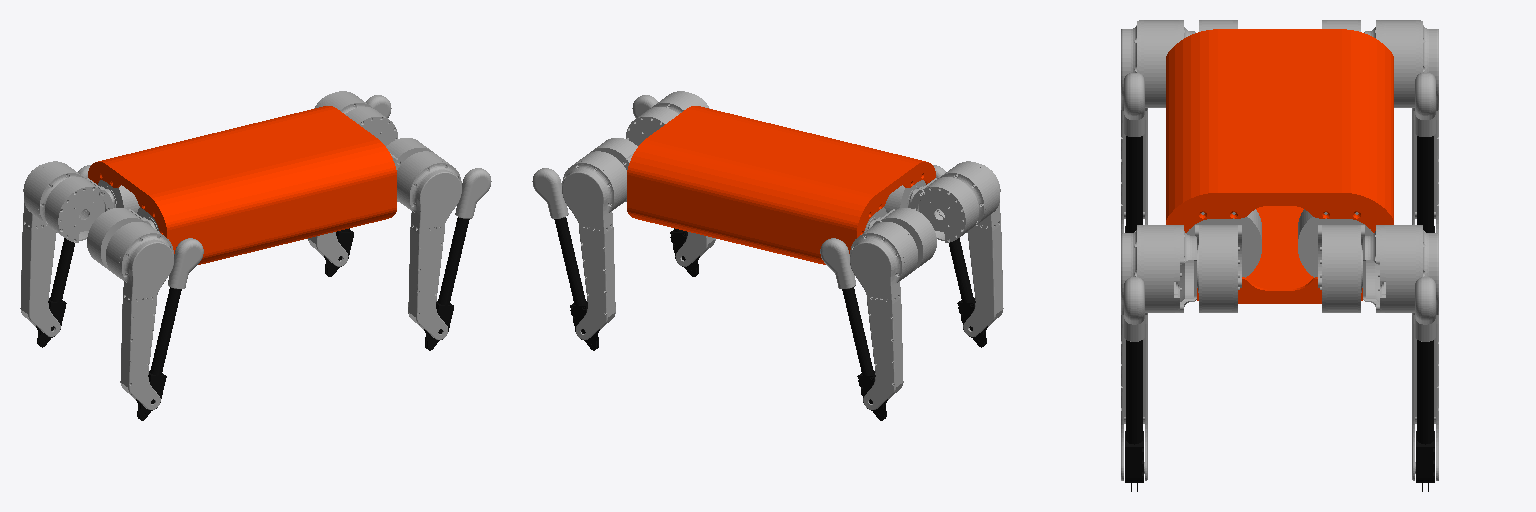
--- Facts derived from the render (not from the file) ---
The picture shows the robot from 3 angles, left to right: view 1: azimuth 30°, elevation 25°; view 2: azimuth 150°, elevation 25°; view 3: azimuth 270°, elevation 25°; orthographic projection.
Model Nomad with 25 links and 24 joints (12 continuous, 12 fixed), rooted at base_link, posed all joints at 0.
Links seen in each view (by area): view 1: base_link, b_upper_leg_FR, b_upper_leg_RR, b_upper_leg_RL, b_hfe_motor_RL, b_lower_leg_FR, b_lower_leg_RR, b_kfe_motor_RL, b_hfe_motor_RR, b_lower_leg_RL, b_foot_RR, b_kfe_motor_RR (+7 smaller); view 2: base_link, b_upper_leg_FL, b_upper_leg_RL, b_upper_leg_RR, b_hfe_motor_RR, b_lower_leg_FL, b_lower_leg_RL, b_kfe_motor_RR, b_hfe_motor_RL, b_lower_leg_RR, b_foot_RL, b_kfe_motor_RL (+7 smaller); view 3: base_link, b_kfe_motor_FL, b_kfe_motor_FR, b_hfe_motor_FL, b_hfe_motor_FR, b_kfe_motor_RL, b_kfe_motor_RR, b_lower_leg_FL, b_lower_leg_FR, b_upper_leg_FL, b_upper_leg_FR, b_upper_leg_RL (+9 smaller).
Link boxes in pixels (box(x1,y1,x2,y2)): base_link: box(88, 106, 396, 264); b_upper_leg_FR: box(408, 162, 461, 339); b_upper_leg_RR: box(120, 232, 173, 409); b_upper_leg_RL: box(20, 161, 66, 336); b_hfe_motor_RL: box(45, 177, 114, 242); b_lower_leg_FR: box(424, 217, 469, 350); b_lower_leg_RR: box(136, 287, 181, 420); b_kfe_motor_RL: box(25, 162, 85, 226); b_hfe_motor_RR: box(87, 208, 155, 270); b_lower_leg_RL: box(36, 238, 74, 347); b_foot_RR: box(168, 238, 203, 288); b_kfe_motor_RR: box(106, 222, 160, 280); base_link: box(627, 106, 935, 264); b_upper_leg_FL: box(562, 162, 615, 339); b_upper_leg_RL: box(850, 232, 903, 409); b_upper_leg_RR: box(957, 161, 1003, 336); b_hfe_motor_RR: box(909, 177, 978, 242); b_lower_leg_FL: box(554, 217, 599, 350); b_lower_leg_RL: box(842, 287, 887, 420); b_kfe_motor_RR: box(938, 162, 998, 226); b_hfe_motor_RL: box(868, 208, 936, 270); b_lower_leg_RR: box(949, 238, 987, 347); b_foot_RL: box(820, 238, 855, 288); b_kfe_motor_RL: box(863, 222, 917, 280); base_link: box(1166, 29, 1393, 303); b_kfe_motor_FL: box(1363, 225, 1418, 312); b_kfe_motor_FR: box(1141, 225, 1196, 312); b_hfe_motor_FL: box(1318, 225, 1364, 312); b_hfe_motor_FR: box(1195, 225, 1241, 312); b_kfe_motor_RL: box(1364, 20, 1418, 107); b_kfe_motor_RR: box(1141, 20, 1195, 107); b_lower_leg_FL: box(1416, 340, 1434, 491); b_lower_leg_FR: box(1125, 340, 1143, 491); b_upper_leg_FL: box(1412, 225, 1438, 480); b_upper_leg_FR: box(1121, 225, 1147, 480); b_upper_leg_RL: box(1412, 20, 1438, 233).
Size in the robot's own frame: 0.7024 by 0.361 by 0.355 metres.
25 mesh visuals loaded from 25 distinct referenced files (25 binary STL).

robot.urdf — Nomad:
<?xml version="1.0" ?>
<robot name="Nomad">

<material name="silver">
  <color rgba="0.700 0.700 0.700 1.000"/>
</material>

<material name="orange">
  <color rgba="1.000 0.2706 0.000 1.000"/>
</material>

<material name="black">
  <color rgba="0.100 0.100 0.100 1.000"/>
</material>

<link name="base_link">
  <inertial>
    <origin rpy="0 0 0" xyz="1.3855583347321954e-15 6.651837443877584e-16 -1.2179673524009297e-16"/>
    <mass value="2.199913990617033"/>
    <inertia ixx="0.024540687238520268" ixy="2.9762304620824154e-16" ixz="5.608252282660633e-17" iyy="0.05844621109763673" iyz="-6.286427378647408e-17" izz="0.06916812540146272"/>
  </inertial>
  <visual>
    <origin rpy="0 0 0" xyz="0 0 0"/>
    <geometry>
      <mesh filename="meshes/base_link.stl" scale="0.001 0.001 0.001"/>
    </geometry>
    <material name="orange"/>
  </visual>
  <collision>
    <origin rpy="0 0 0" xyz="0 0 0"/>
    <geometry>
      <mesh filename="meshes/base_link.stl" scale="0.001 0.001 0.001"/>
    </geometry>
  </collision>
</link>

<link name="b_hfe_motor_FL">
  <inertial>
    <origin rpy="0 0 0" xyz="0.04837811944868167 0.004377456626079371 0.00042958181475170437"/>
    <mass value="0.2875872093499024"/>
    <inertia ixx="0.0002803549243167677" ixy="-1.2113045801184254e-05" ixz="-1.1887313311722463e-06" iyy="0.0004738810398638993" iyz="3.0511493607548417e-06" izz="0.0003613217034786516"/>
  </inertial>
  <visual>
    <origin rpy="0 0 0" xyz="-0.217 -0.07 -0.0"/>
    <geometry>
      <mesh filename="meshes/b_hfe_motor_FL.stl" scale="0.001 0.001 0.001"/>
    </geometry>
    <material name="silver"/>
  </visual>
  <collision>
    <origin rpy="0 0 0" xyz="-0.217 -0.07 -0.0"/>
    <geometry>
      <mesh filename="meshes/b_hfe_motor_FL.stl" scale="0.001 0.001 0.001"/>
    </geometry>
  </collision>
</link>

<link name="b_hfe_motor_FR">
  <inertial>
    <origin rpy="0 0 0" xyz="0.04837811944868284 -0.004377456626069212 0.0004295818147518176"/>
    <mass value="0.2875872093499024"/>
    <inertia ixx="0.0002803549243167614" ixy="1.2113045801143488e-05" ixz="-1.1887313311703896e-06" iyy="0.00047388103986390276" iyz="-3.0511493607544283e-06" izz="0.0003613217034786481"/>
  </inertial>
  <visual>
    <origin rpy="0 0 0" xyz="-0.217 0.07 -0.0"/>
    <geometry>
      <mesh filename="meshes/b_hfe_motor_FR.stl" scale="0.001 0.001 0.001"/>
    </geometry>
    <material name="silver"/>
  </visual>
  <collision>
    <origin rpy="0 0 0" xyz="-0.217 0.07 -0.0"/>
    <geometry>
      <mesh filename="meshes/b_hfe_motor_FR.stl" scale="0.001 0.001 0.001"/>
    </geometry>
  </collision>
</link>

<link name="b_hfe_motor_RL">
  <inertial>
    <origin rpy="0 0 0" xyz="-0.04837811944868167 0.004377456626079482 0.0004295818147517815"/>
    <mass value="0.2875872093499024"/>
    <inertia ixx="0.0002803549243167683" ixy="1.2113045801185121e-05" ixz="1.1887313311715347e-06" iyy="0.0004738810398638993" iyz="3.0511493607541988e-06" izz="0.0003613217034786481"/>
  </inertial>
  <visual>
    <origin rpy="0 0 0" xyz="0.217 -0.07 -0.0"/>
    <geometry>
      <mesh filename="meshes/b_hfe_motor_RL.stl" scale="0.001 0.001 0.001"/>
    </geometry>
    <material name="silver"/>
  </visual>
  <collision>
    <origin rpy="0 0 0" xyz="0.217 -0.07 -0.0"/>
    <geometry>
      <mesh filename="meshes/b_hfe_motor_RL.stl" scale="0.001 0.001 0.001"/>
    </geometry>
  </collision>
</link>

<link name="b_hfe_motor_RR">
  <inertial>
    <origin rpy="0 0 0" xyz="-0.04837811944868195 -0.004377456626079287 0.000429581814751668"/>
    <mass value="0.2875872093499024"/>
    <inertia ixx="0.0002803549243167657" ixy="-1.2113045801182519e-05" ixz="1.188731331171833e-06" iyy="0.00047388103986389235" iyz="-3.0511493607547316e-06" izz="0.0003613217034786412"/>
  </inertial>
  <visual>
    <origin rpy="0 0 0" xyz="0.217 0.07 -0.0"/>
    <geometry>
      <mesh filename="meshes/b_hfe_motor_RR.stl" scale="0.001 0.001 0.001"/>
    </geometry>
    <material name="silver"/>
  </visual>
  <collision>
    <origin rpy="0 0 0" xyz="0.217 0.07 -0.0"/>
    <geometry>
      <mesh filename="meshes/b_hfe_motor_RR.stl" scale="0.001 0.001 0.001"/>
    </geometry>
  </collision>
</link>

<link name="b_kfe_motor_FL">
  <inertial>
    <origin rpy="0 0 0" xyz="-0.002512163959945135 0.03773393377276271 0.00019329617472682838"/>
    <mass value="0.30243979231772933"/>
    <inertia ixx="0.00037578882069899677" ixy="-1.8585922474462918e-05" ixz="-2.0050372480908577e-06" iyy="0.00043307576818706756" iyz="1.4300959327523297e-06" izz="0.00034988475762854493"/>
  </inertial>
  <visual>
    <origin rpy="0 0 0" xyz="-0.275 -0.0945 -0.0"/>
    <geometry>
      <mesh filename="meshes/b_kfe_motor_FL.stl" scale="0.001 0.001 0.001"/>
    </geometry>
    <material name="silver"/>
  </visual>
  <collision>
    <origin rpy="0 0 0" xyz="-0.275 -0.0945 -0.0"/>
    <geometry>
      <mesh filename="meshes/b_kfe_motor_FL.stl" scale="0.001 0.001 0.001"/>
    </geometry>
  </collision>
</link>

<link name="b_kfe_motor_RL">
  <inertial>
    <origin rpy="0 0 0" xyz="-0.0025121639599162693 0.03773393377276385 0.00019329617472664624"/>
    <mass value="0.30243979231772933"/>
    <inertia ixx="0.00037578882069898203" ixy="-1.8585922474440367e-05" ixz="-2.00503724809018e-06" iyy="0.00043307576818706756" iyz="1.4300959327531657e-06" izz="0.000349884757628538"/>
  </inertial>
  <visual>
    <origin rpy="0 0 0" xyz="0.275 -0.0945 0.0"/>
    <geometry>
      <mesh filename="meshes/b_kfe_motor_RL.stl" scale="0.001 0.001 0.001"/>
    </geometry>
    <material name="silver"/>
  </visual>
  <collision>
    <origin rpy="0 0 0" xyz="0.275 -0.0945 0.0"/>
    <geometry>
      <mesh filename="meshes/b_kfe_motor_RL.stl" scale="0.001 0.001 0.001"/>
    </geometry>
  </collision>
</link>

<link name="b_kfe_motor_RR">
  <inertial>
    <origin rpy="0 0 0" xyz="-0.00251212949167684 -0.037733893842588684 0.00019329541043383477"/>
    <mass value="0.30244037793017975"/>
    <inertia ixx="0.00037578973969512337" ixy="1.858570971075002e-05" ixz="-2.0050462719483145e-06" iyy="0.00043307696674413365" iyz="-1.4300893874428447e-06" izz="0.00034988553413073387"/>
  </inertial>
  <visual>
    <origin rpy="0 0 0" xyz="0.275 0.0945 0.0"/>
    <geometry>
      <mesh filename="meshes/b_kfe_motor_RR.stl" scale="0.001 0.001 0.001"/>
    </geometry>
    <material name="silver"/>
  </visual>
  <collision>
    <origin rpy="0 0 0" xyz="0.275 0.0945 0.0"/>
    <geometry>
      <mesh filename="meshes/b_kfe_motor_RR.stl" scale="0.001 0.001 0.001"/>
    </geometry>
  </collision>
</link>

<link name="b_kfe_motor_FR">
  <inertial>
    <origin rpy="0 0 0" xyz="-0.002512129491692494 -0.037733893842576055 0.00019329541043393403"/>
    <mass value="0.30244037793017975"/>
    <inertia ixx="0.0003757897396951303" ixy="1.8585709710758694e-05" ixz="-2.0050462719484466e-06" iyy="0.0004330769667441302" iyz="-1.4300893874429531e-06" izz="0.00034988553413073734"/>
  </inertial>
  <visual>
    <origin rpy="0 0 0" xyz="-0.275 0.0945 -0.0"/>
    <geometry>
      <mesh filename="meshes/b_kfe_motor_FR.stl" scale="0.001 0.001 0.001"/>
    </geometry>
    <material name="silver"/>
  </visual>
  <collision>
    <origin rpy="0 0 0" xyz="-0.275 0.0945 -0.0"/>
    <geometry>
      <mesh filename="meshes/b_kfe_motor_FR.stl" scale="0.001 0.001 0.001"/>
    </geometry>
  </collision>
</link>

<link name="b_upper_leg_FL">
  <inertial>
    <origin rpy="0 0 0" xyz="-0.014423962319260575 0.00850925749615547 -0.09161624364136568"/>
    <mass value="0.28719650938086905"/>
    <inertia ixx="0.0019272391978443666" ixy="-5.0116920205980214e-06" ixz="-0.00017316055278734747" iyy="0.002043826919616628" iyz="-3.828610079793706e-05" izz="0.0001871472654461498"/>
  </inertial>
  <visual>
    <origin rpy="0 0 0" xyz="-0.275 -0.1585 -0.0"/>
    <geometry>
      <mesh filename="meshes/b_upper_leg_FL.stl" scale="0.001 0.001 0.001"/>
    </geometry>
    <material name="silver"/>
  </visual>
  <collision>
    <origin rpy="0 0 0" xyz="-0.275 -0.1585 -0.0"/>
    <geometry>
      <mesh filename="meshes/b_upper_leg_FL.stl" scale="0.001 0.001 0.001"/>
    </geometry>
  </collision>
</link>

<link name="b_upper_leg_RL">
  <inertial>
    <origin rpy="0 0 0" xyz="-0.014423962319216665 0.008509257496239403 -0.09161624364135944"/>
    <mass value="0.28719650938086905"/>
    <inertia ixx="0.0019272391978443458" ixy="-5.011692020391589e-06" ixz="-0.00017316055278737263" iyy="0.0020438269196166835" iyz="-3.8286100796295144e-05" izz="0.00018714726544608734"/>
  </inertial>
  <visual>
    <origin rpy="0 0 0" xyz="0.275 -0.1585 0.0"/>
    <geometry>
      <mesh filename="meshes/b_upper_leg_RL.stl" scale="0.001 0.001 0.001"/>
    </geometry>
    <material name="silver"/>
  </visual>
  <collision>
    <origin rpy="0 0 0" xyz="0.275 -0.1585 0.0"/>
    <geometry>
      <mesh filename="meshes/b_upper_leg_RL.stl" scale="0.001 0.001 0.001"/>
    </geometry>
  </collision>
</link>

<link name="b_upper_leg_RR">
  <inertial>
    <origin rpy="0 0 0" xyz="-0.014422800069823716 -0.00850928857335742 -0.09161625557670666"/>
    <mass value="0.28719862886504943"/>
    <inertia ixx="0.001927272610620952" ixy="5.0131788147857875e-06" ixz="-0.00017314911049837439" iyy="0.0020439349296165546" iyz="3.82860568079622e-05" izz="0.00018722207039639088"/>
  </inertial>
  <visual>
    <origin rpy="0 0 0" xyz="0.275 0.1585 0.0"/>
    <geometry>
      <mesh filename="meshes/b_upper_leg_RR.stl" scale="0.001 0.001 0.001"/>
    </geometry>
    <material name="silver"/>
  </visual>
  <collision>
    <origin rpy="0 0 0" xyz="0.275 0.1585 0.0"/>
    <geometry>
      <mesh filename="meshes/b_upper_leg_RR.stl" scale="0.001 0.001 0.001"/>
    </geometry>
  </collision>
</link>

<link name="b_upper_leg_FR">
  <inertial>
    <origin rpy="0 0 0" xyz="-0.01442280006984642 -0.00850928857332428 -0.09161625557670817"/>
    <mass value="0.28719862886504943"/>
    <inertia ixx="0.001927272610620959" ixy="5.013178814841299e-06" ixz="-0.00017314911049836831" iyy="0.0020439349296165407" iyz="3.82860568083742e-05" izz="0.00018722207039639782"/>
  </inertial>
  <visual>
    <origin rpy="0 0 0" xyz="-0.275 0.1585 -0.0"/>
    <geometry>
      <mesh filename="meshes/b_upper_leg_FR.stl" scale="0.001 0.001 0.001"/>
    </geometry>
    <material name="silver"/>
  </visual>
  <collision>
    <origin rpy="0 0 0" xyz="-0.275 0.1585 -0.0"/>
    <geometry>
      <mesh filename="meshes/b_upper_leg_FR.stl" scale="0.001 0.001 0.001"/>
    </geometry>
  </collision>
</link>

<link name="b_lower_leg_FL">
  <inertial>
    <origin rpy="0 0 0" xyz="0.011621797718557814 0.010859669260623678 0.03690633523092879"/>
    <mass value="0.10027511378483192"/>
    <inertia ixx="0.0003214631585384429" ixy="-3.7313464832690324e-08" ixz="-8.352273777319664e-05" iyy="0.0003482859277158228" iyz="-1.741455336922229e-07" izz="3.535125274260059e-05"/>
  </inertial>
  <visual>
    <origin rpy="0 0 0" xyz="-0.27482 -0.1545 0.25"/>
    <geometry>
      <mesh filename="meshes/b_lower_leg_FL.stl" scale="0.001 0.001 0.001"/>
    </geometry>
    <material name="black"/>
  </visual>
  <collision>
    <origin rpy="0 0 0" xyz="-0.27482 -0.1545 0.25"/>
    <geometry>
      <mesh filename="meshes/b_lower_leg_FL.stl" scale="0.001 0.001 0.001"/>
    </geometry>
  </collision>
</link>

<link name="b_lower_leg_RL">
  <inertial>
    <origin rpy="0 0 0" xyz="0.011621797718602445 0.010859669260731647 0.03690633523095205"/>
    <mass value="0.10027511378483192"/>
    <inertia ixx="0.0003214631585384412" ixy="-3.731346460023738e-08" ixz="-8.352273777320011e-05" iyy="0.0003482859277158228" iyz="-1.7414553283440215e-07" izz="3.535125274259712e-05"/>
  </inertial>
  <visual>
    <origin rpy="0 0 0" xyz="0.27518 -0.1545 0.25"/>
    <geometry>
      <mesh filename="meshes/b_lower_leg_RL.stl" scale="0.001 0.001 0.001"/>
    </geometry>
    <material name="black"/>
  </visual>
  <collision>
    <origin rpy="0 0 0" xyz="0.27518 -0.1545 0.25"/>
    <geometry>
      <mesh filename="meshes/b_lower_leg_RL.stl" scale="0.001 0.001 0.001"/>
    </geometry>
  </collision>
</link>

<link name="b_lower_leg_FR">
  <inertial>
    <origin rpy="0 0 0" xyz="0.011621797718578963 -0.011140330739316584 0.03690633523094655"/>
    <mass value="0.10027511378483192"/>
    <inertia ixx="0.0003214631585384438" ixy="-3.731346466182006e-08" ixz="-8.352273777320098e-05" iyy="0.00034828592771582456" iyz="-1.7414553305644676e-07" izz="3.535125274259539e-05"/>
  </inertial>
  <visual>
    <origin rpy="0 0 0" xyz="-0.27482 0.1545 0.25"/>
    <geometry>
      <mesh filename="meshes/b_lower_leg_FR.stl" scale="0.001 0.001 0.001"/>
    </geometry>
    <material name="black"/>
  </visual>
  <collision>
    <origin rpy="0 0 0" xyz="-0.27482 0.1545 0.25"/>
    <geometry>
      <mesh filename="meshes/b_lower_leg_FR.stl" scale="0.001 0.001 0.001"/>
    </geometry>
  </collision>
</link>

<link name="b_lower_leg_RR">
  <inertial>
    <origin rpy="0 0 0" xyz="0.011621797718602167 -0.011140330739346588 0.036906335230954074"/>
    <mass value="0.10027511378483192"/>
    <inertia ixx="0.0003214631585384429" ixy="-3.7313464732943724e-08" ixz="-8.352273777319924e-05" iyy="0.0003482859277158211" iyz="-1.7414553331839e-07" izz="3.535125274259712e-05"/>
  </inertial>
  <visual>
    <origin rpy="0 0 0" xyz="0.27518 0.1545 0.25"/>
    <geometry>
      <mesh filename="meshes/b_lower_leg_RR.stl" scale="0.001 0.001 0.001"/>
    </geometry>
    <material name="black"/>
  </visual>
  <collision>
    <origin rpy="0 0 0" xyz="0.27518 0.1545 0.25"/>
    <geometry>
      <mesh filename="meshes/b_lower_leg_RR.stl" scale="0.001 0.001 0.001"/>
    </geometry>
  </collision>
</link>

<link name="b_haa_motor_FR">
  <inertial>
    <origin rpy="0 0 0" xyz="-0.016983261704377528 8.790073766085094e-09 0.0005413876110014865"/>
    <mass value="0.22819661408568134"/>
    <inertia ixx="0.0003373962012691294" ixy="4.825164790292491e-11" ixz="3.191909056947394e-06" iyy="0.00022867987683109804" iyz="1.0859538179857015e-12" izz="0.00023403244738576245"/>
  </inertial>
  <visual>
    <origin rpy="0 0 0" xyz="-0.215 0.07 -0.0"/>
    <geometry>
      <mesh filename="meshes/b_haa_motor_FR.stl" scale="0.001 0.001 0.001"/>
    </geometry>
    <material name="silver"/>
  </visual>
  <collision>
    <origin rpy="0 0 0" xyz="-0.215 0.07 -0.0"/>
    <geometry>
      <mesh filename="meshes/b_haa_motor_FR.stl" scale="0.001 0.001 0.001"/>
    </geometry>
  </collision>
</link>

<link name="b_haa_motor_FL">
  <inertial>
    <origin rpy="0 0 0" xyz="-0.01698326170437725 8.79007372445173e-09 0.0005413876110013799"/>
    <mass value="0.22819661408568134"/>
    <inertia ixx="0.0003373962012691307" ixy="4.825164746924404e-11" ixz="3.191909056947428e-06" iyy="0.0002286798768310963" iyz="1.0859538179857015e-12" izz="0.00023403244738576072"/>
  </inertial>
  <visual>
    <origin rpy="0 0 0" xyz="-0.215 -0.07 -0.0"/>
    <geometry>
      <mesh filename="meshes/b_haa_motor_FL.stl" scale="0.001 0.001 0.001"/>
    </geometry>
    <material name="silver"/>
  </visual>
  <collision>
    <origin rpy="0 0 0" xyz="-0.215 -0.07 -0.0"/>
    <geometry>
      <mesh filename="meshes/b_haa_motor_FL.stl" scale="0.001 0.001 0.001"/>
    </geometry>
  </collision>
</link>

<link name="b_haa_motor_RL">
  <inertial>
    <origin rpy="0 0 0" xyz="0.016983261704377278 -8.790073738329518e-09 0.0005413876110014156"/>
    <mass value="0.22819661408568134"/>
    <inertia ixx="0.0003373962012691309" ixy="4.825164703556317e-11" ixz="-3.1919090569474247e-06" iyy="0.0002286798768310911" iyz="-1.0859538230678992e-12" izz="0.00023403244738575552"/>
  </inertial>
  <visual>
    <origin rpy="0 0 0" xyz="0.215 -0.07 -0.0"/>
    <geometry>
      <mesh filename="meshes/b_haa_motor_RL.stl" scale="0.001 0.001 0.001"/>
    </geometry>
    <material name="silver"/>
  </visual>
  <collision>
    <origin rpy="0 0 0" xyz="0.215 -0.07 -0.0"/>
    <geometry>
      <mesh filename="meshes/b_haa_motor_RL.stl" scale="0.001 0.001 0.001"/>
    </geometry>
  </collision>
</link>

<link name="b_haa_motor_RR">
  <inertial>
    <origin rpy="0 0 0" xyz="0.016983261704377528 -8.79007372445173e-09 0.0005413876110013802"/>
    <mass value="0.22819661408568134"/>
    <inertia ixx="0.0003373962012691309" ixy="4.825164790292491e-11" ixz="-3.1919090569474484e-06" iyy="0.00022867987683109457" iyz="-1.0859538213738333e-12" izz="0.00023403244738576245"/>
  </inertial>
  <visual>
    <origin rpy="0 0 0" xyz="0.215 0.07 -0.0"/>
    <geometry>
      <mesh filename="meshes/b_haa_motor_RR.stl" scale="0.001 0.001 0.001"/>
    </geometry>
    <material name="silver"/>
  </visual>
  <collision>
    <origin rpy="0 0 0" xyz="0.215 0.07 -0.0"/>
    <geometry>
      <mesh filename="meshes/b_haa_motor_RR.stl" scale="0.001 0.001 0.001"/>
    </geometry>
  </collision>
</link>

<link name="b_foot_FL">
  <inertial>
    <origin rpy="0 0 0" xyz="0.012203978896202616 4.4481085481606897e-13 0.020464654888621384"/>
    <mass value="0.07686399002843429"/>
    <inertia ixx="3.1766152773537656e-05" ixy="9.540979117872439e-17" ixz="-1.0303975522280549e-05" iyy="4.390760288289046e-05" iyz="2.0122792321330962e-16" izz="1.8894300105112838e-05"/>
  </inertial>
  <visual>
    <origin rpy="0 0 0" xyz="-0.333933 -0.1655 0.03289"/>
    <geometry>
      <mesh filename="meshes/b_foot_FL.stl" scale="0.001 0.001 0.001"/>
    </geometry>
    <material name="silver"/>
  </visual>
  <collision>
    <origin rpy="0 0 0" xyz="-0.333933 -0.1655 0.03289"/>
    <geometry>
      <mesh filename="meshes/b_foot_FL.stl" scale="0.001 0.001 0.001"/>
    </geometry>
  </collision>
</link>

<link name="b_foot_FR">
  <inertial>
    <origin rpy="0 0 0" xyz="0.012203978896224155 1.4785395130445522e-13 0.020464654888639612"/>
    <mass value="0.07686399002843429"/>
    <inertia ixx="3.176615277354503e-05" ixy="8.847089727481716e-17" ixz="-1.0303975522285862e-05" iyy="4.390760288290607e-05" iyz="1.911177379548823e-16" izz="1.8894300105119777e-05"/>
  </inertial>
  <visual>
    <origin rpy="0 0 0" xyz="-0.333933 0.1655 0.03289"/>
    <geometry>
      <mesh filename="meshes/b_foot_FR.stl" scale="0.001 0.001 0.001"/>
    </geometry>
    <material name="silver"/>
  </visual>
  <collision>
    <origin rpy="0 0 0" xyz="-0.333933 0.1655 0.03289"/>
    <geometry>
      <mesh filename="meshes/b_foot_FR.stl" scale="0.001 0.001 0.001"/>
    </geometry>
  </collision>
</link>

<link name="b_foot_RR">
  <inertial>
    <origin rpy="0 0 0" xyz="0.012203978896247025 2.6009749909405855e-13 0.020464654888646645"/>
    <mass value="0.07686399002843429"/>
    <inertia ixx="3.176615277354026e-05" ixy="9.280770596475918e-17" ixz="-1.030397552228082e-05" iyy="4.3907602882892194e-05" iyz="2.0046898169256977e-16" izz="1.8894300105110236e-05"/>
  </inertial>
  <visual>
    <origin rpy="0 0 0" xyz="0.216067 0.1655 0.03289"/>
    <geometry>
      <mesh filename="meshes/b_foot_RR.stl" scale="0.001 0.001 0.001"/>
    </geometry>
    <material name="silver"/>
  </visual>
  <collision>
    <origin rpy="0 0 0" xyz="0.216067 0.1655 0.03289"/>
    <geometry>
      <mesh filename="meshes/b_foot_RR.stl" scale="0.001 0.001 0.001"/>
    </geometry>
  </collision>
</link>

<link name="b_foot_RL">
  <inertial>
    <origin rpy="0 0 0" xyz="0.012203978896247608 7.60225216112076e-14 0.020464654888645507"/>
    <mass value="0.07686399002843429"/>
    <inertia ixx="3.176615277353939e-05" ixy="8.500145032286355e-17" ixz="-1.0303975522280576e-05" iyy="4.390760288288742e-05" iyz="1.8176649421719482e-16" izz="1.8894300105111103e-05"/>
  </inertial>
  <visual>
    <origin rpy="0 0 0" xyz="0.216067 -0.1655 0.03289"/>
    <geometry>
      <mesh filename="meshes/b_foot_RL.stl" scale="0.001 0.001 0.001"/>
    </geometry>
    <material name="silver"/>
  </visual>
  <collision>
    <origin rpy="0 0 0" xyz="0.216067 -0.1655 0.03289"/>
    <geometry>
      <mesh filename="meshes/b_foot_RL.stl" scale="0.001 0.001 0.001"/>
    </geometry>
  </collision>
</link>

<joint name="j_haa_FL" type="continuous">
  <origin rpy="0 0 0" xyz="0.002 0.0 0.0"/>
  <parent link="b_haa_motor_FL"/>
  <child link="b_hfe_motor_FL"/>
  <dynamics damping="0.2" friction="0"/>
  <axis xyz="-1.0 0.0 0.0"/>
</joint>

<joint name="j_haa_FR" type="continuous">
  <origin rpy="0 0 0" xyz="0.002 0.0 0.0"/>
  <parent link="b_haa_motor_FR"/>
  <child link="b_hfe_motor_FR"/>
  <dynamics damping="0.2" friction="0"/>
  <axis xyz="-1.0 0.0 -0.0"/>
</joint>

<joint name="j_haa_RL" type="continuous">
  <origin rpy="0 0 0" xyz="-0.002 0.0 0.0"/>
  <parent link="b_haa_motor_RL"/>
  <child link="b_hfe_motor_RL"/>
  <dynamics damping="0.2" friction="0"/>
  <axis xyz="1.0 -0.0 -0.0"/>
</joint>

<joint name="j_haa_RR" type="continuous">
  <origin rpy="0 0 0" xyz="-0.002 0.0 0.0"/>
  <parent link="b_haa_motor_RR"/>
  <child link="b_hfe_motor_RR"/>
  <dynamics damping="0.2" friction="0"/>
  <axis xyz="1.0 -0.0 -0.0"/>
</joint>

<joint name="j_hfe_FL" type="continuous">
  <origin rpy="0 0 0" xyz="0.058 0.0245 0.0"/>
  <parent link="b_hfe_motor_FL"/>
  <child link="b_kfe_motor_FL"/>
  <dynamics damping="0.2" friction="0"/>
  <axis xyz="-0.0 -1.0 0.0"/>
</joint>

<joint name="j_hfe_RL" type="continuous">
  <origin rpy="0 0 0" xyz="-0.058 0.0245 -0.0"/>
  <parent link="b_hfe_motor_RL"/>
  <child link="b_kfe_motor_RL"/>
  <dynamics damping="0.2" friction="0"/>
  <axis xyz="-0.0 -1.0 0.0"/>
</joint>

<joint name="j_hfe_RR" type="continuous">
  <origin rpy="0 0 0" xyz="-0.058 -0.0245 -0.0"/>
  <parent link="b_hfe_motor_RR"/>
  <child link="b_kfe_motor_RR"/>
  <dynamics damping="0.2" friction="0"/>
  <axis xyz="0.0 1.0 -0.0"/>
</joint>

<joint name="j_hfe_FR" type="continuous">
  <origin rpy="0 0 0" xyz="0.058 -0.0245 0.0"/>
  <parent link="b_hfe_motor_FR"/>
  <child link="b_kfe_motor_FR"/>
  <dynamics damping="0.2" friction="0"/>
  <axis xyz="0.0 1.0 0.0"/>
</joint>

<joint name="j_hfe_to_shoulder_FL" type="fixed">
  <origin rpy="0 0 0" xyz="0.0 0.064 0.0"/>
  <parent link="b_kfe_motor_FL"/>
  <child link="b_upper_leg_FL"/>
</joint>

<joint name="j_hfe_to_shoulder_RL" type="fixed">
  <origin rpy="0 0 0" xyz="0.0 0.064 0.0"/>
  <parent link="b_kfe_motor_RL"/>
  <child link="b_upper_leg_RL"/>
</joint>

<joint name="j_hfe_to_shoulder_RR" type="fixed">
  <origin rpy="0 0 0" xyz="0.0 -0.064 0.0"/>
  <parent link="b_kfe_motor_RR"/>
  <child link="b_upper_leg_RR"/>
</joint>

<joint name="j_hfe_to_shoulder_FR" type="fixed">
  <origin rpy="0 0 0" xyz="0.0 -0.064 0.0"/>
  <parent link="b_kfe_motor_FR"/>
  <child link="b_upper_leg_FR"/>
</joint>

<joint name="j_kfe_FL" type="continuous">
  <origin rpy="0 0 0" xyz="-0.00018 -0.004 -0.25"/>
  <parent link="b_upper_leg_FL"/>
  <child link="b_lower_leg_FL"/>
  <dynamics damping="0.2" friction="0"/>
  <axis xyz="0.0 -1.0 0.0"/>
</joint>

<joint name="j_kfe_RL" type="continuous">
  <origin rpy="0 0 0" xyz="-0.00018 -0.004 -0.25"/>
  <parent link="b_upper_leg_RL"/>
  <child link="b_lower_leg_RL"/>
  <dynamics damping="0.2" friction="0"/>
  <axis xyz="-0.0 -1.0 -0.0"/>
</joint>

<joint name="j_kfe_FR" type="continuous">
  <origin rpy="0 0 0" xyz="-0.00018 0.004 -0.25"/>
  <parent link="b_upper_leg_FR"/>
  <child link="b_lower_leg_FR"/>
  <dynamics damping="0.2" friction="0"/>
  <axis xyz="-0.0 1.0 -0.0"/>
</joint>

<joint name="j_kfe_RR" type="continuous">
  <origin rpy="0 0 0" xyz="-0.00018 0.004 -0.25"/>
  <parent link="b_upper_leg_RR"/>
  <child link="b_lower_leg_RR"/>
  <dynamics damping="0.2" friction="0"/>
  <axis xyz="0.0 1.0 0.0"/>
</joint>

<joint name="j_base_link_haa_FR" type="fixed">
  <origin rpy="0 0 0" xyz="0.215 -0.07 0.0"/>
  <parent link="base_link"/>
  <child link="b_haa_motor_FR"/>
</joint>

<joint name="j_base_link_haa_FL" type="fixed">
  <origin rpy="0 0 0" xyz="0.215 0.07 0.0"/>
  <parent link="base_link"/>
  <child link="b_haa_motor_FL"/>
</joint>

<joint name="j_base_link_haa_RL" type="fixed">
  <origin rpy="0 0 0" xyz="-0.215 0.07 0.0"/>
  <parent link="base_link"/>
  <child link="b_haa_motor_RL"/>
</joint>

<joint name="j_base_link_haa_RR" type="fixed">
  <origin rpy="0 0 0" xyz="-0.215 -0.07 0.0"/>
  <parent link="base_link"/>
  <child link="b_haa_motor_RR"/>
</joint>

<joint name="j_knee_to_foot_FL" type="fixed">
  <origin rpy="0 0 0" xyz="0.059113 0.011 0.21711"/>
  <parent link="b_lower_leg_FL"/>
  <child link="b_foot_FL"/>
</joint>

<joint name="j_knee_to_foot_FR" type="fixed">
  <origin rpy="0 0 0" xyz="0.059113 -0.011 0.21711"/>
  <parent link="b_lower_leg_FR"/>
  <child link="b_foot_FR"/>
</joint>

<joint name="j_knee_to_foot_RR" type="fixed">
  <origin rpy="0 0 0" xyz="0.059113 -0.011 0.21711"/>
  <parent link="b_lower_leg_RR"/>
  <child link="b_foot_RR"/>
</joint>

<joint name="j_knee_to_foot_RL" type="fixed">
  <origin rpy="0 0 0" xyz="0.059113 0.011 0.21711"/>
  <parent link="b_lower_leg_RL"/>
  <child link="b_foot_RL"/>
</joint>

</robot>
